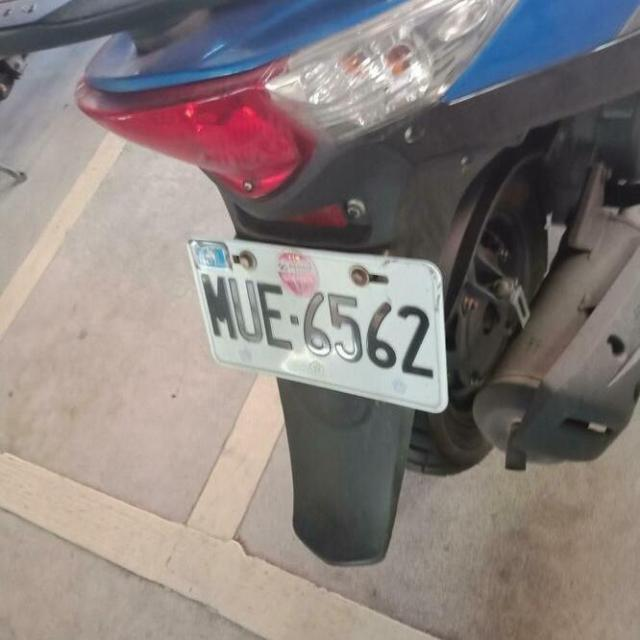W: (177, 211, 461, 423)
